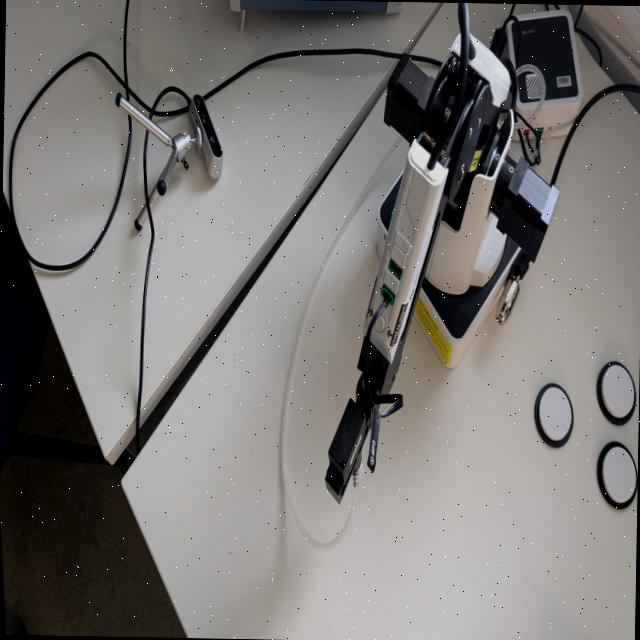Robot-end-effector-HF8z: (322, 396, 370, 506)
